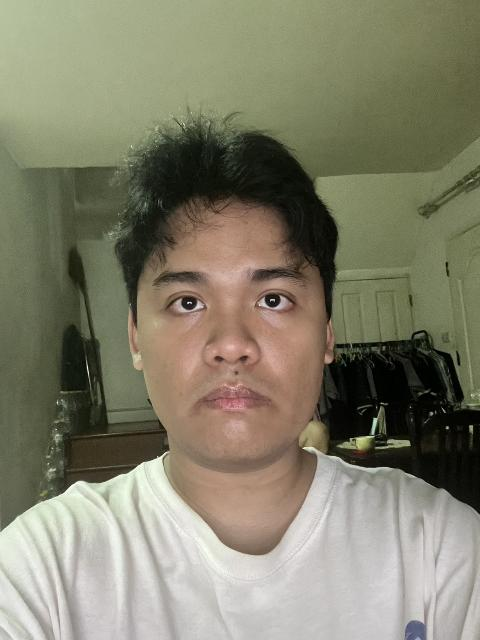fokus: (125, 155, 335, 465)
